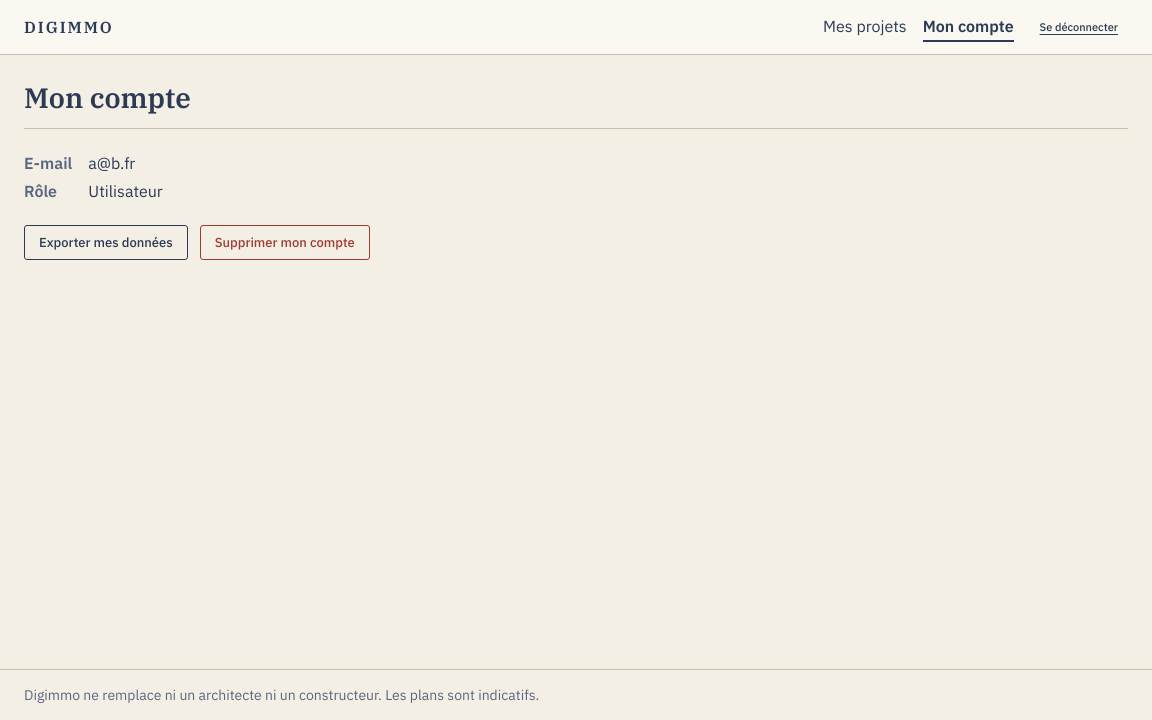
Test: mon compte › suppression : mot de passe vide => erreur locale, aucune requête
The image size is (1152, 720).
Click the button "Supprimer mon compte" at (285, 242), box [200,225,370,260]
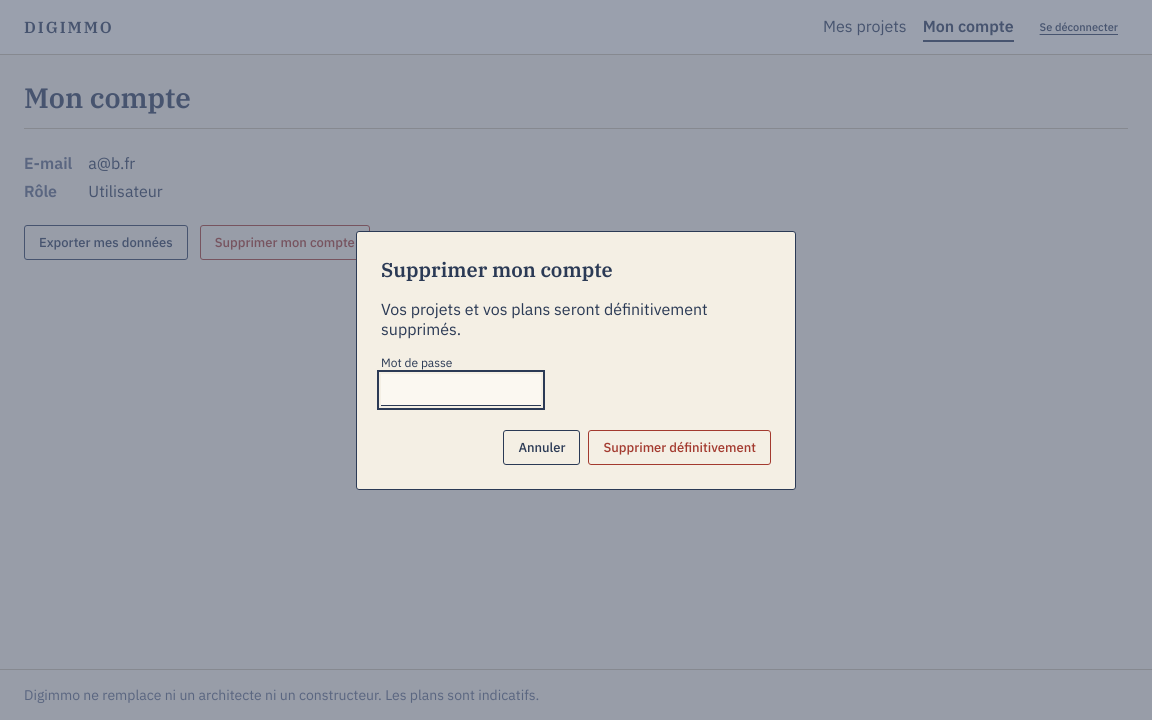
Expected: the dialog shows "Vos projets et vos plans seront définitivement supprimés.", [381,298,708,338]
Click the button "Supprimer définitivement" at (680, 447), box [588,430,771,464]
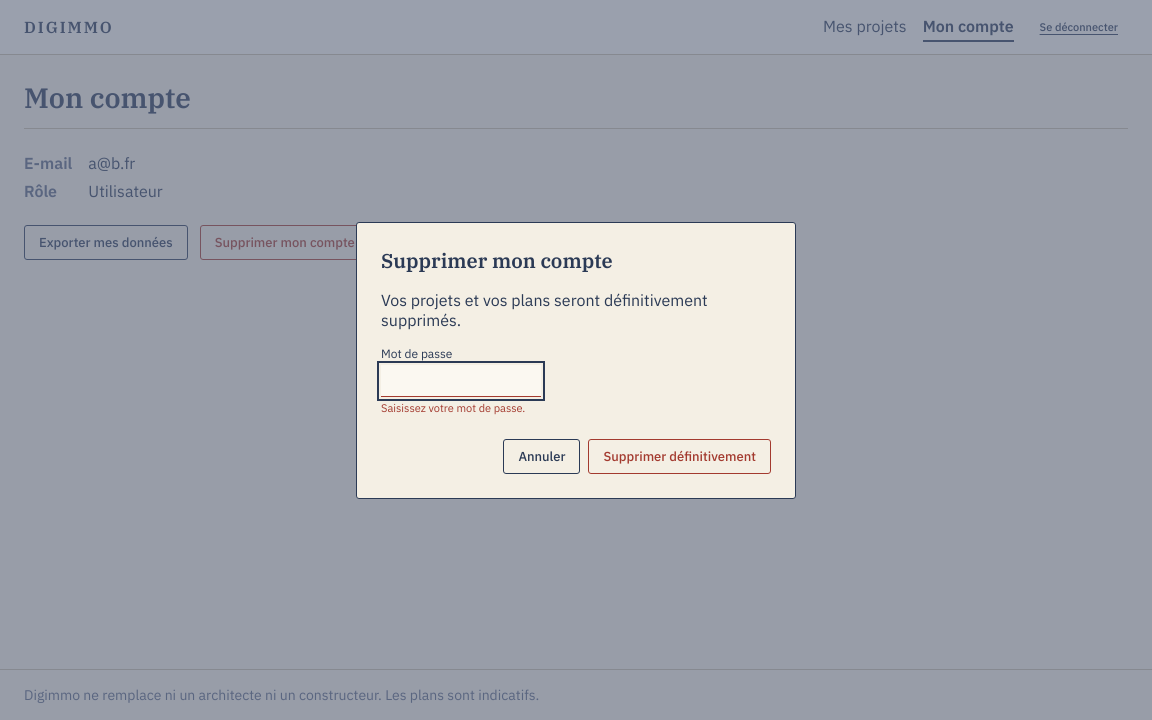
Expected: the text "Saisissez votre mot de passe." is shown, [381,400,525,414]
